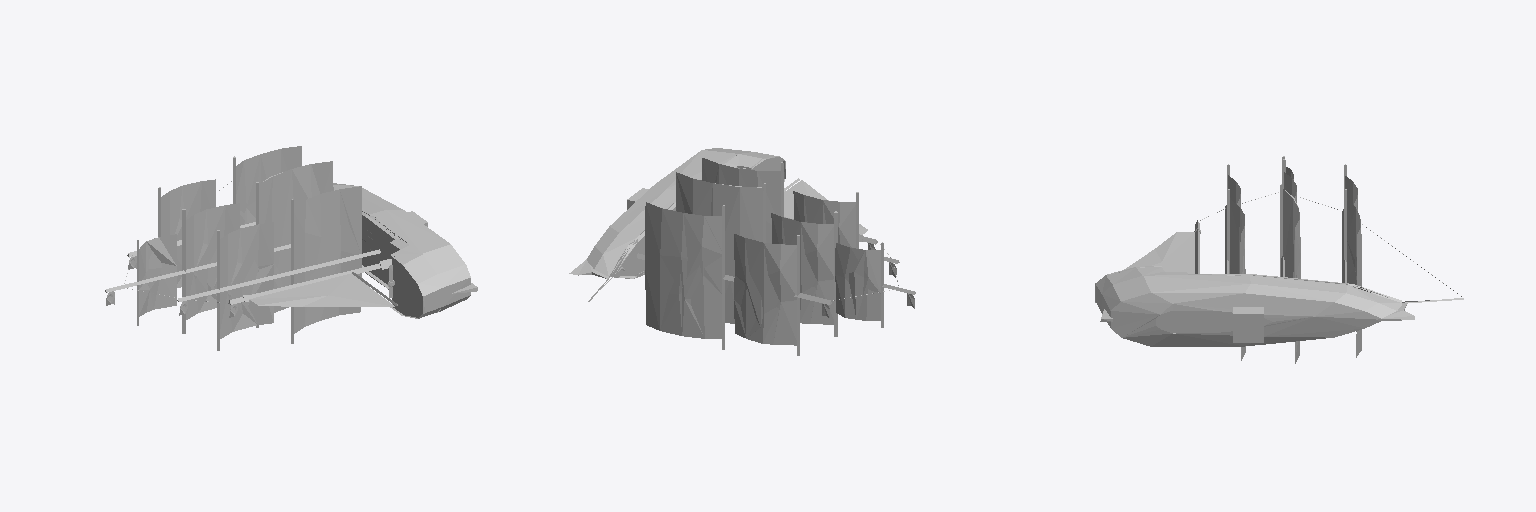
File: boat.obj
The picture shows the model from 3 angles: view 1: azimuth 30°, elevation 25°; view 2: azimuth 150°, elevation 25°; view 3: azimuth 270°, elevation 25°; orthographic projection.
Parts seen in each view (by area): view 1: boat_Mesh_boat_Mesh.114; view 2: boat_Mesh_boat_Mesh.114; view 3: boat_Mesh_boat_Mesh.114, Cube.
Boxes of the visible parts, box(x1,y1,x2,y2) form: boat_Mesh_boat_Mesh.114: box(105, 146, 477, 350); boat_Mesh_boat_Mesh.114: box(569, 148, 915, 355); boat_Mesh_boat_Mesh.114: box(1095, 156, 1463, 363); Cube: box(1233, 307, 1263, 342).
Size of the model in its own units: 21.73 by 10.1 by 23.33.